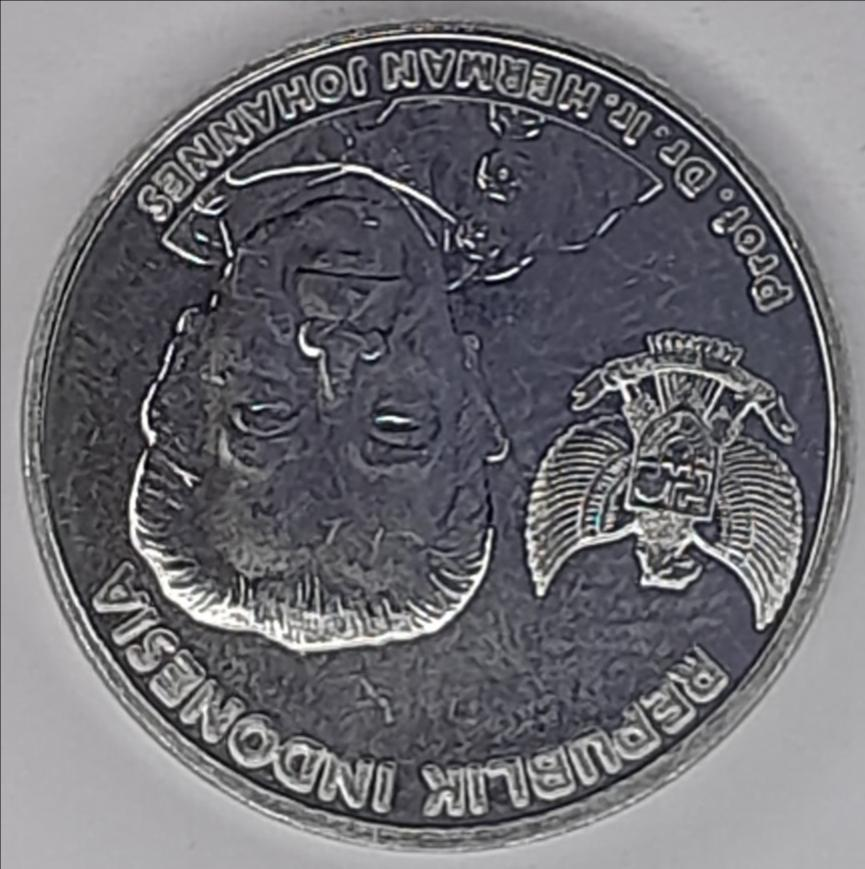coin_100_e2016: (15, 12, 857, 853)
